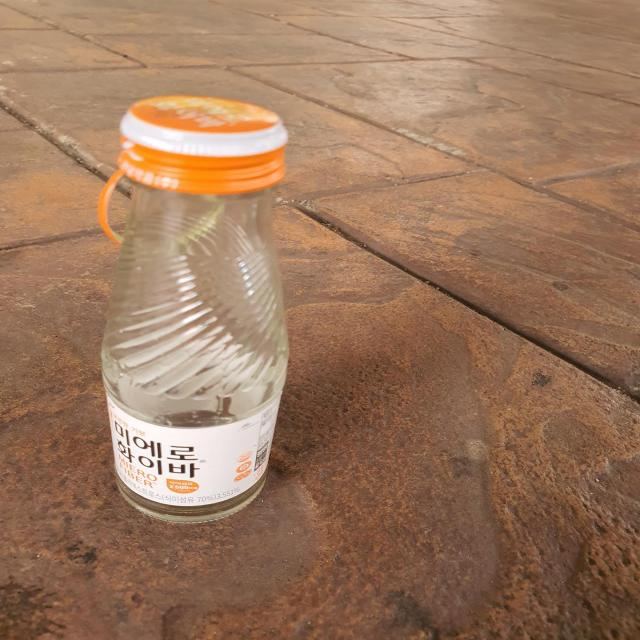glass: (98, 95, 288, 523)
